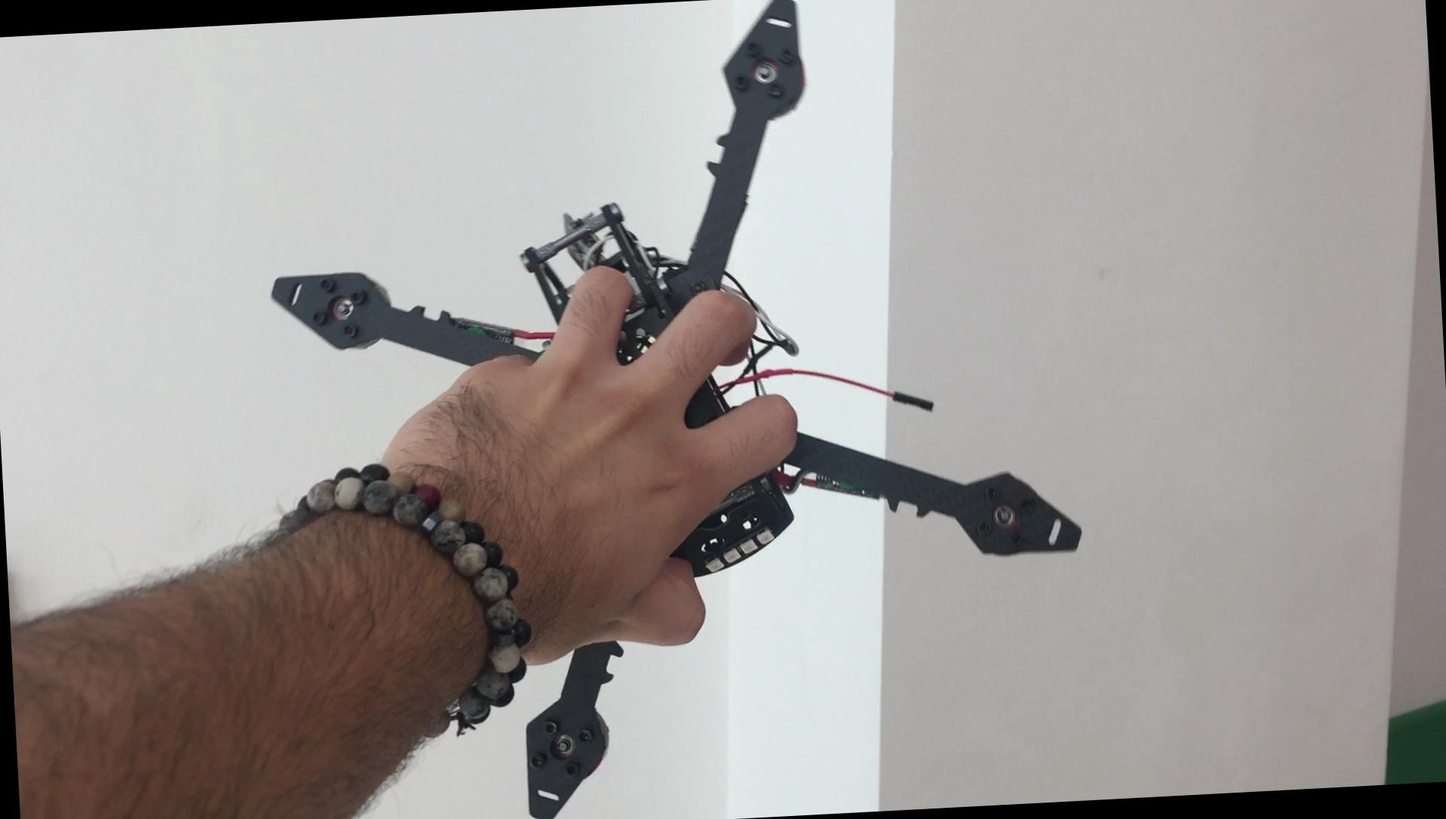drone: (220, 0, 1097, 819)
